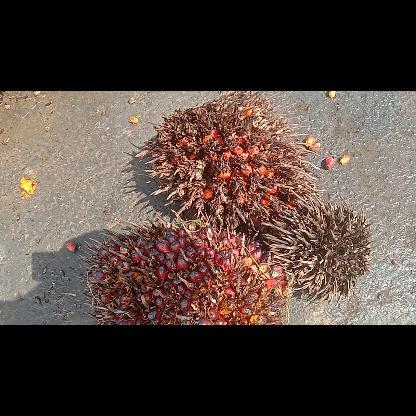Janjang kosong: (262, 195, 374, 305)
TBS masak: (81, 210, 292, 324)
Terlalu masak: (136, 90, 320, 233)
